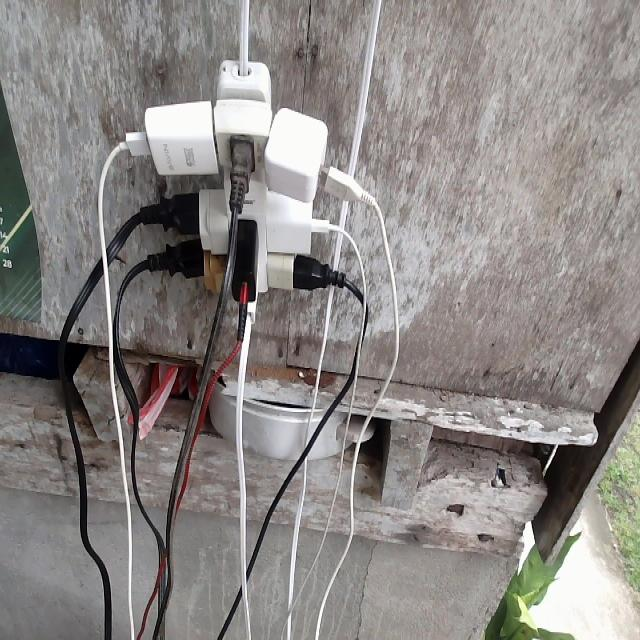-: (123, 53, 353, 324)
